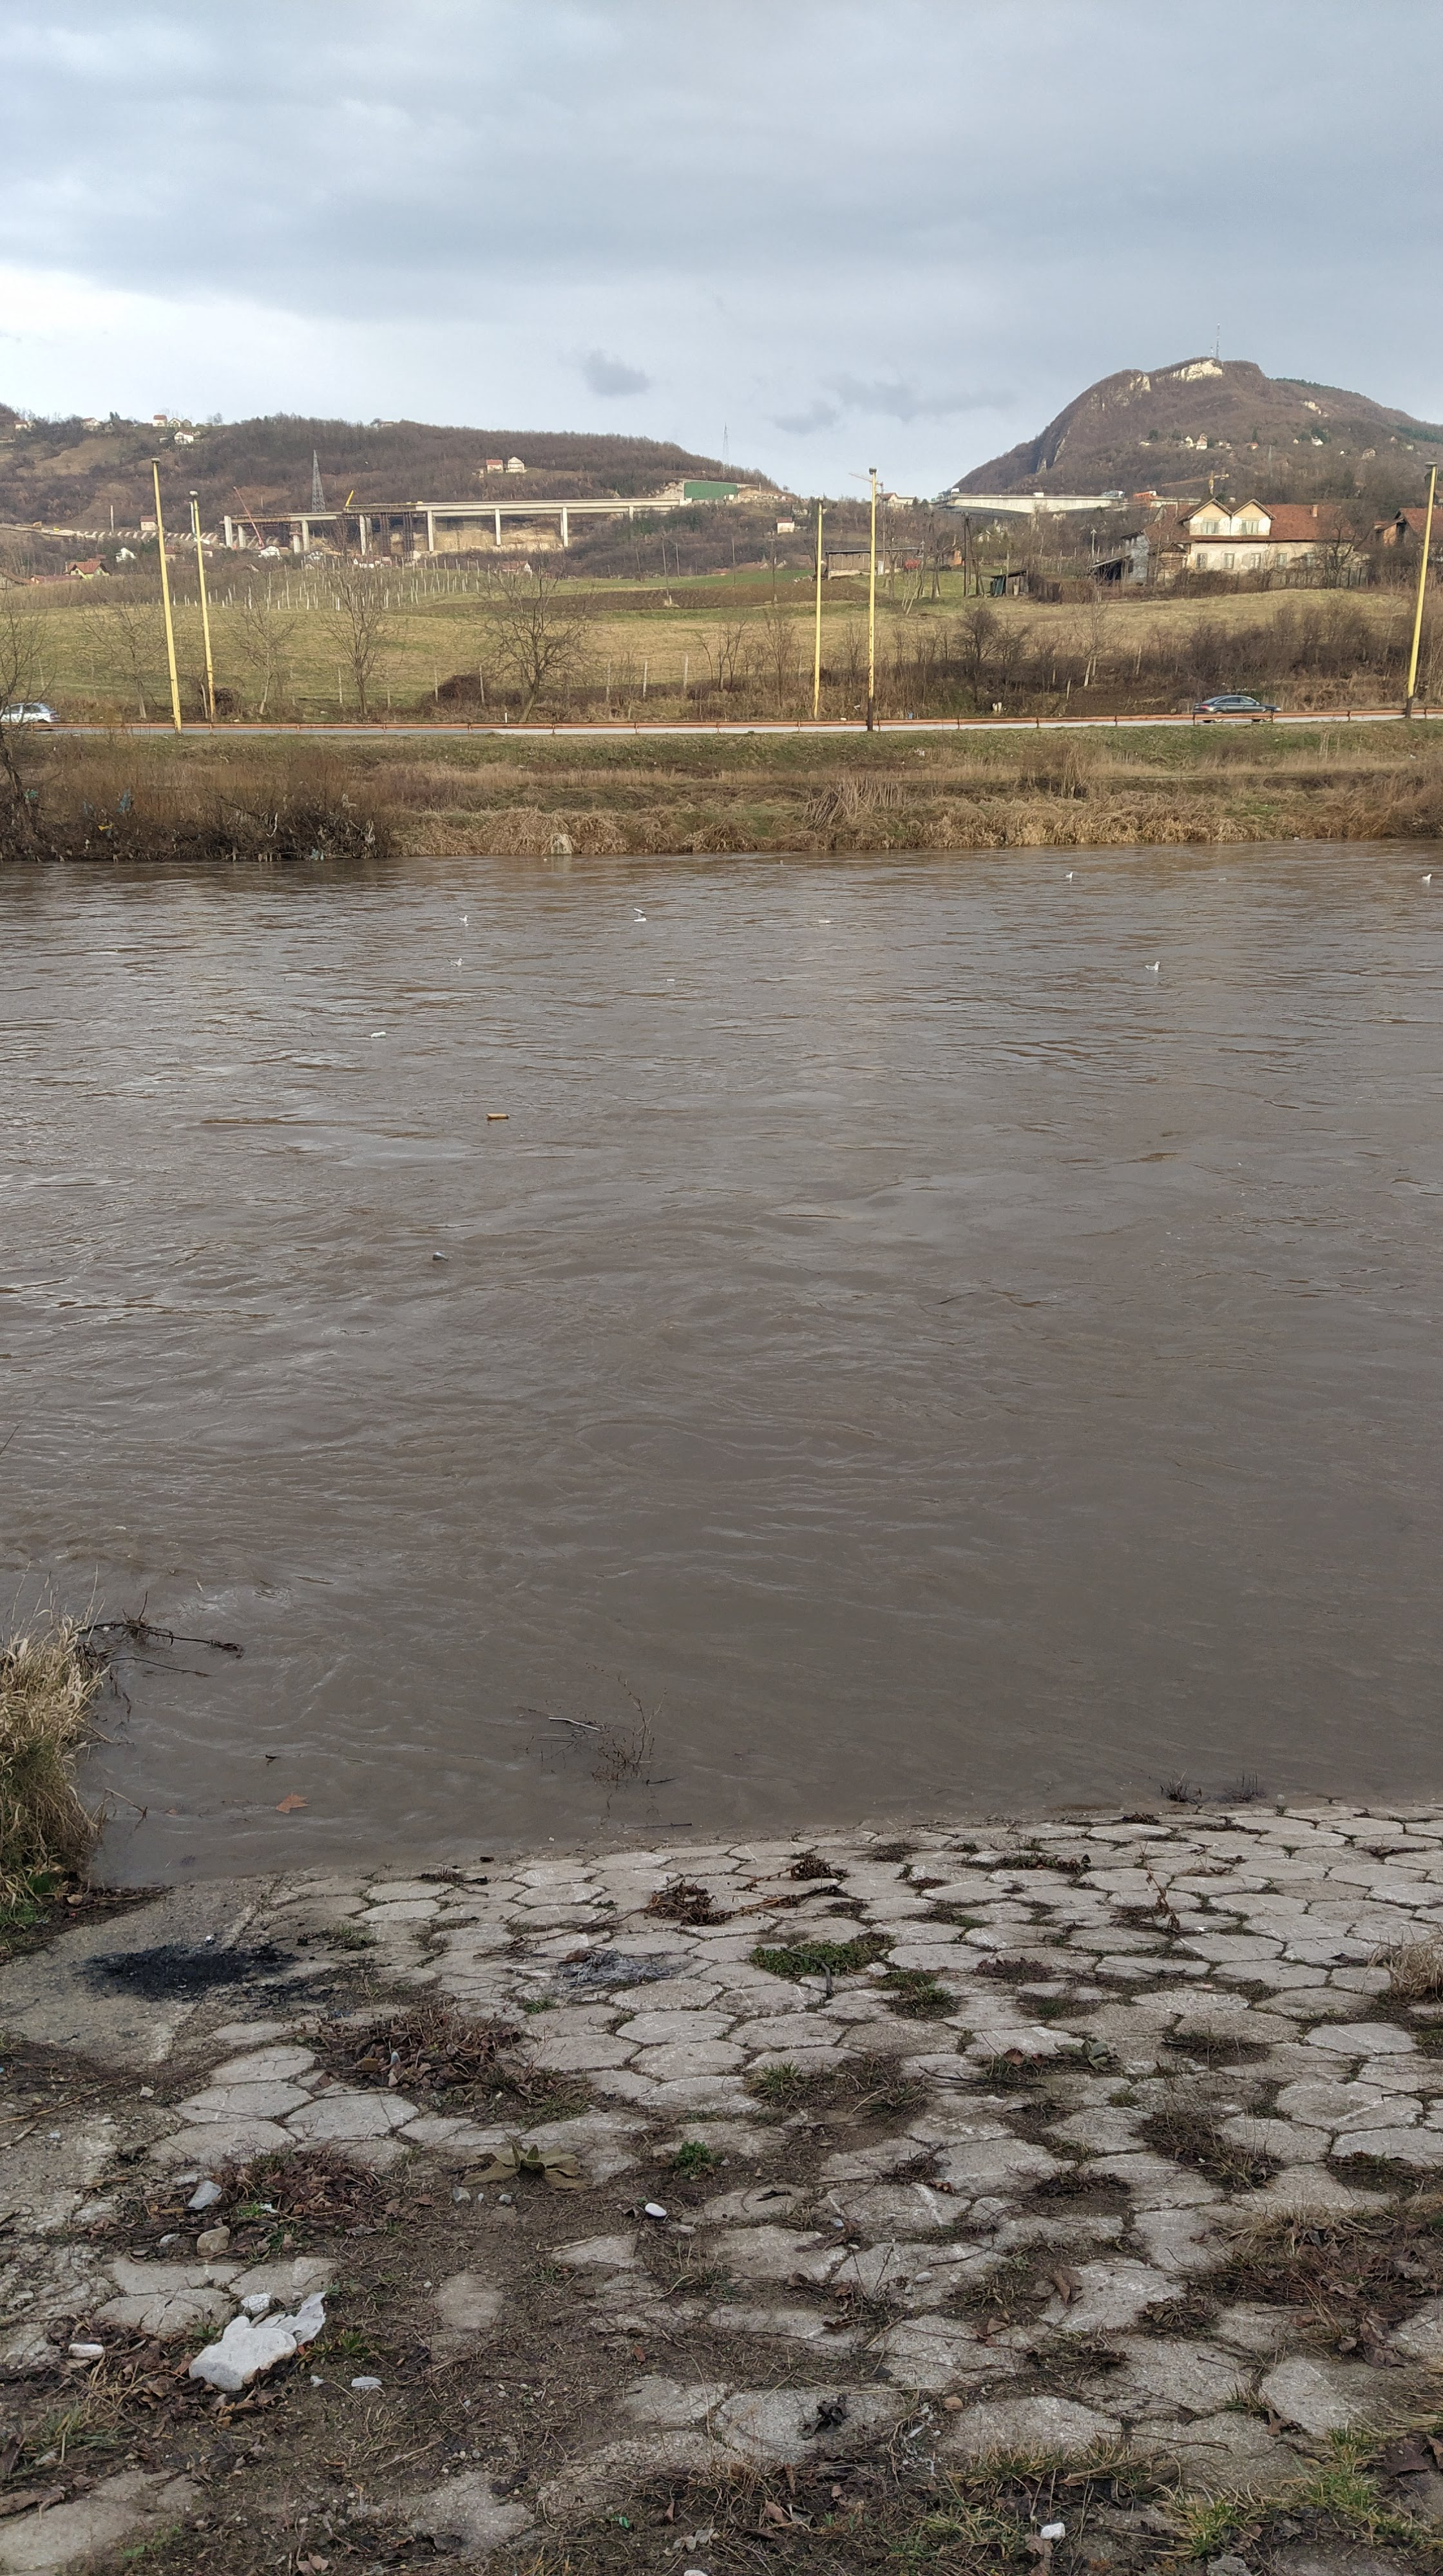Plastic Bottle: (485, 1113, 510, 1120), (370, 1030, 384, 1037), (634, 916, 648, 922), (818, 920, 832, 924), (1218, 878, 1225, 881), (666, 978, 676, 980)
